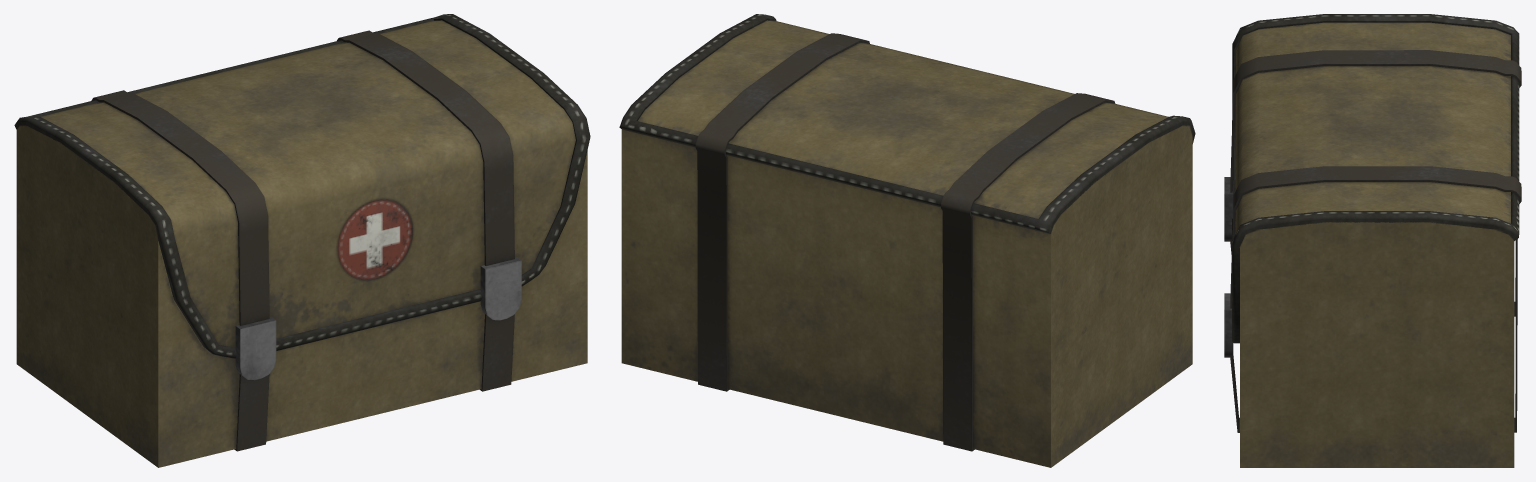
Rendered from FirstAidKit01.glb.
3 renders of one model, left to right at view 1: azimuth 30°, elevation 25°; view 2: azimuth 150°, elevation 25°; view 3: azimuth 270°, elevation 25°, orthographic. The views are drawn at different scales.
Visible parts, largest first — view 1: FA_Kit_01; view 2: FA_Kit_01; view 3: FA_Kit_01.
Part boxes in pixels (x1,y1,x2,y2): FA_Kit_01: (14, 14, 590, 467); FA_Kit_01: (619, 14, 1195, 467); FA_Kit_01: (1224, 14, 1521, 467).
Bounding box in the file's own units: 0.63 × 0.3668 × 0.3895.
1 material, 1 textured.
